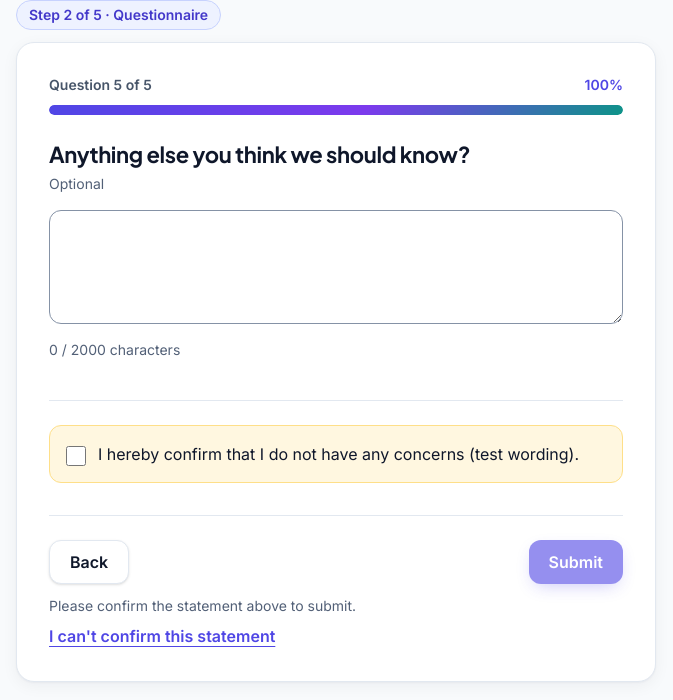
Test: Disclaimer and submit (US4.3) › jumps to a required question the server reports as unanswered
The width and height of the screenshot is (673, 700).
What coordinates should you click on to do the following:
click the checkbox with test id "disclaimer-checkbox"
I would click on:
 (76, 456)
Its box is left=66, top=446, right=86, bottom=466.
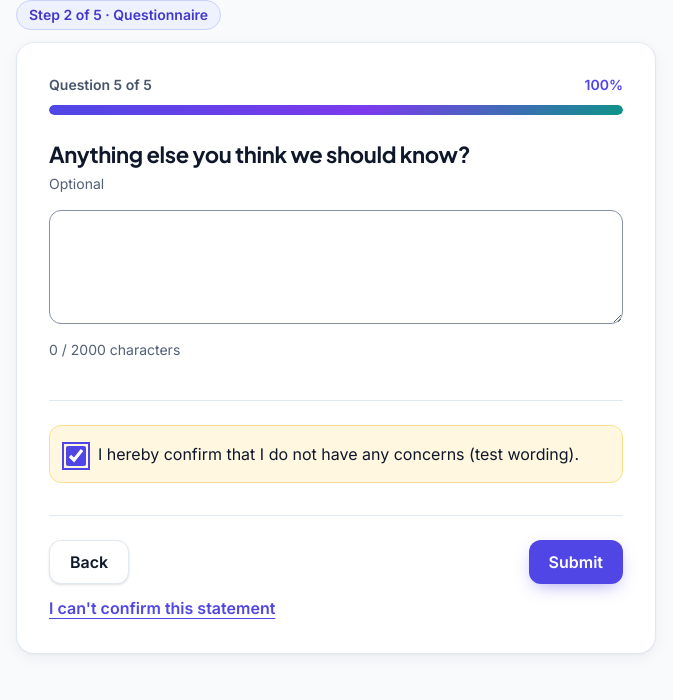
What coordinates should you click on to do the following:
click the button with test id "wizard-submit-button"
I would click on:
 (576, 562)
Its box is left=529, top=540, right=623, bottom=584.
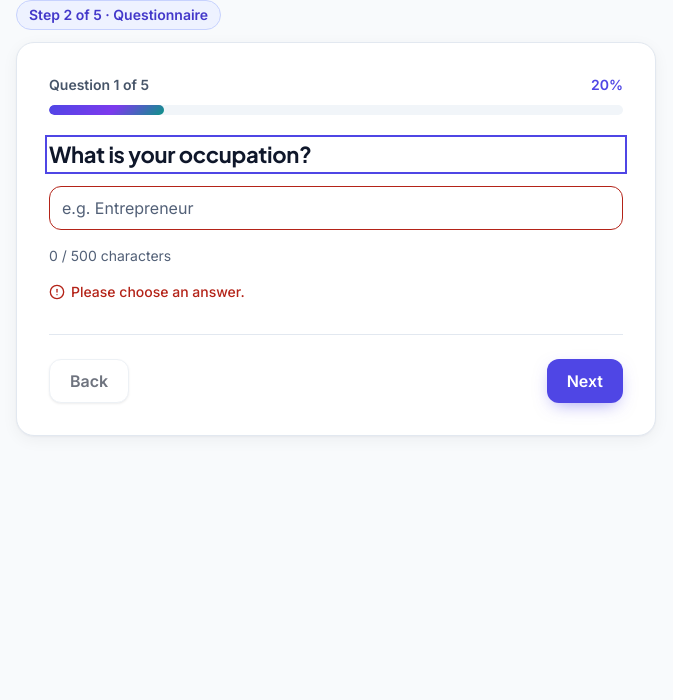
Expected: the text with test id "wizard-position" reads "Question 1 of 5", left=49, top=75, right=149, bottom=95
Expected: the element with test id "question-error" reads "Please choose an answer.", left=71, top=283, right=245, bottom=300
